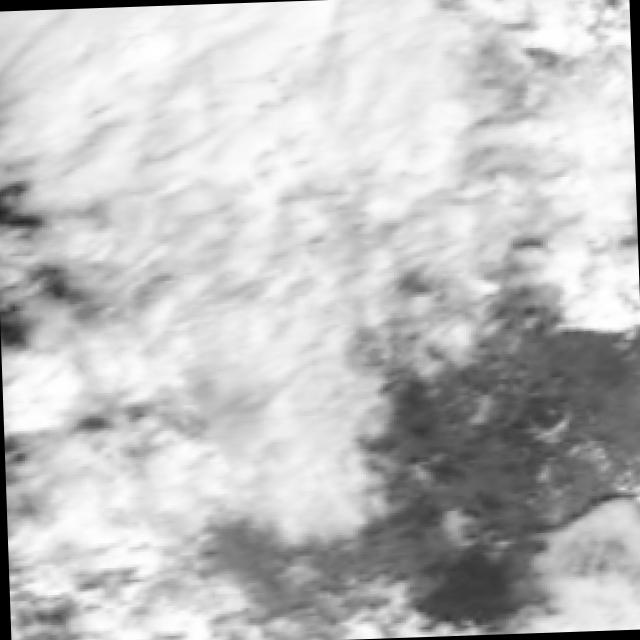CB: (0, 0, 426, 179), (226, 302, 344, 512)
